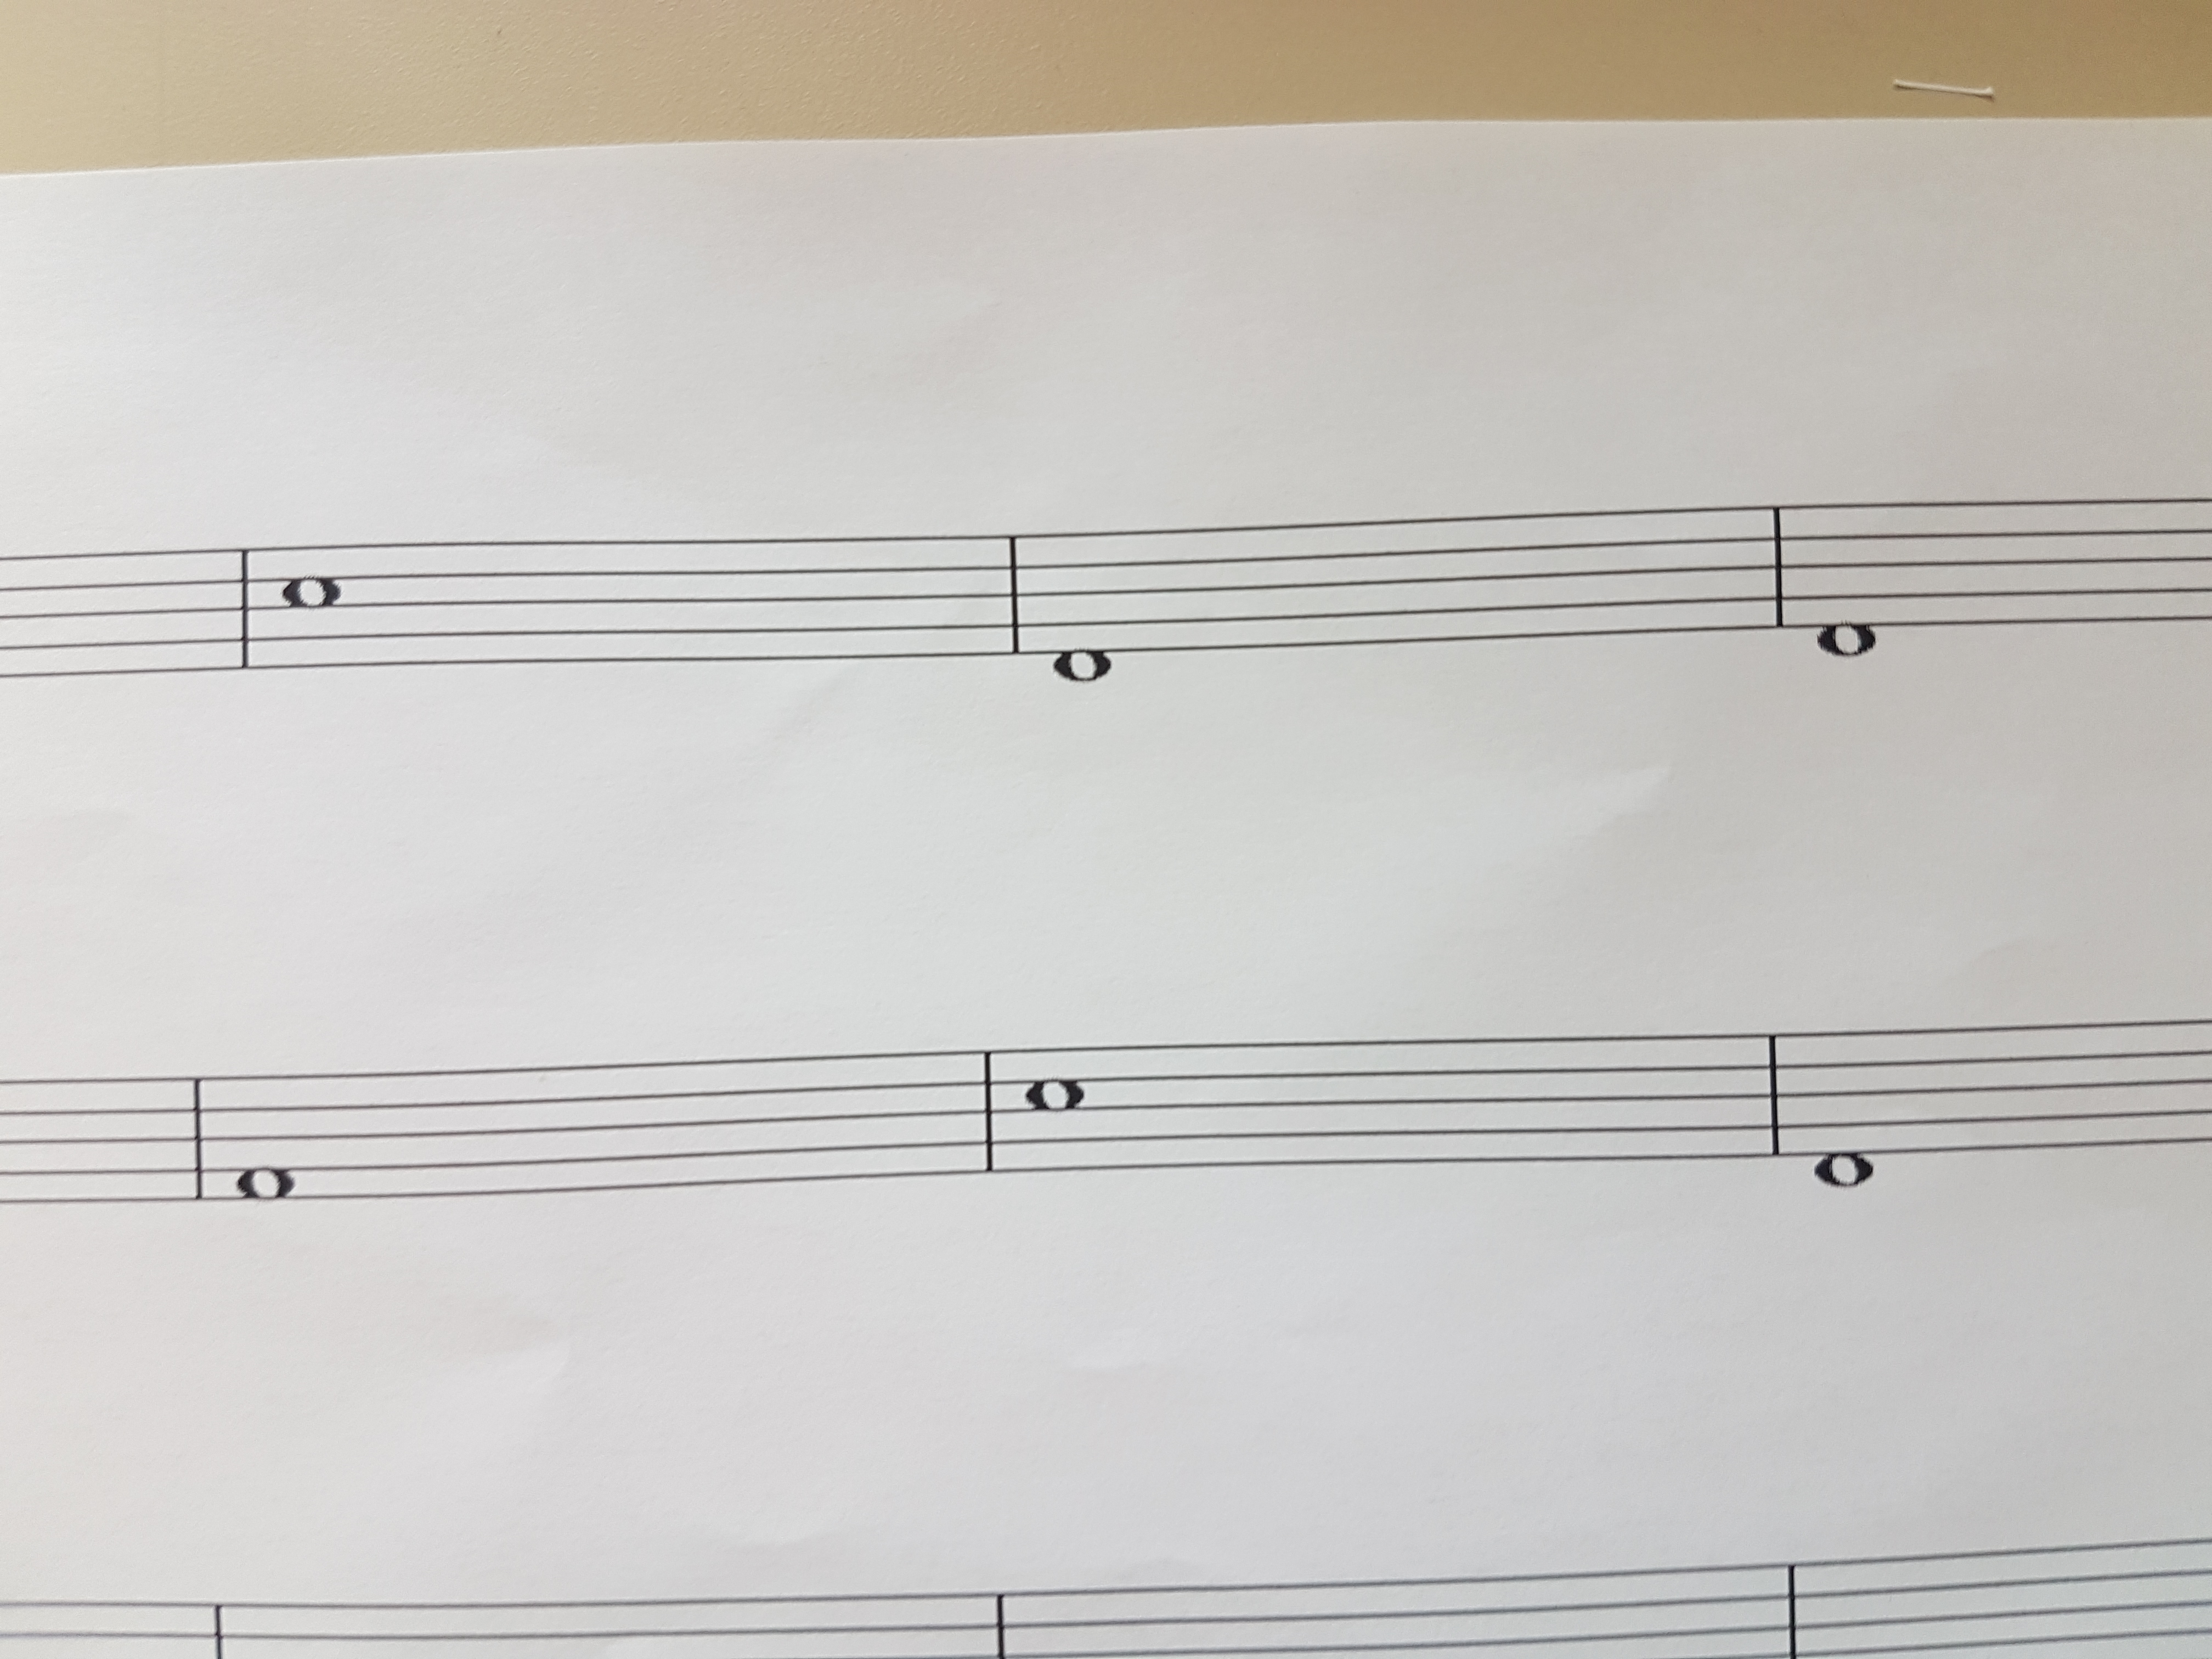pipe: (972, 1037, 1007, 1192), (1756, 1016, 1789, 1176), (183, 1061, 214, 1215), (1764, 491, 1794, 643), (230, 530, 258, 687), (1000, 516, 1028, 667)
semibreve_c: (1017, 1012, 1090, 1201), (275, 514, 347, 694)
semibreve_d: (1803, 477, 1883, 687), (1803, 1004, 1883, 1213), (1043, 500, 1123, 708)
semibreve_f: (226, 1044, 301, 1241)
